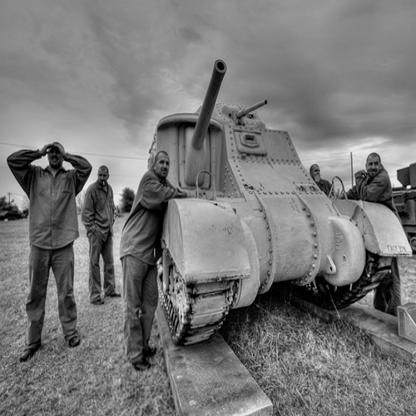Tank: (136, 59, 405, 347)
